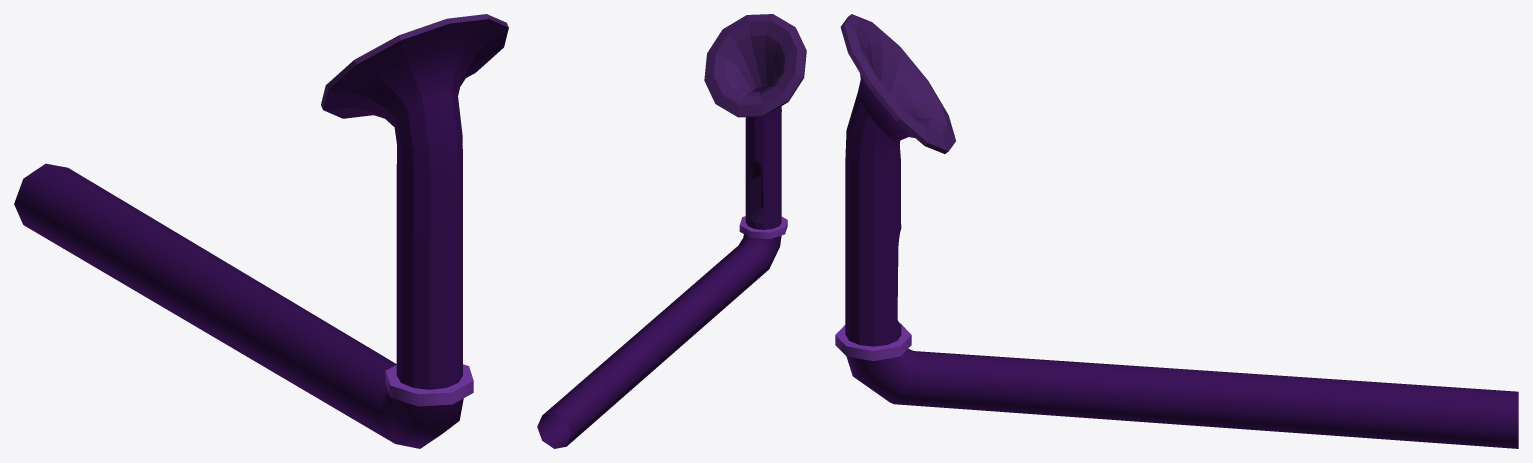
The model's file is ENV_Xylophone_Pipe_07.fbx.
3 views of the same model, side by side, from view 1: azimuth 30°, elevation 25°; view 2: azimuth 150°, elevation 25°; view 3: azimuth 270°, elevation 25° (orthographic). The views are drawn at different scales.
Visible parts, largest first — view 1: ENV_Xylophone_Pipe_07; view 2: ENV_Xylophone_Pipe_07; view 3: ENV_Xylophone_Pipe_07.
Part boxes in pixels (x1,y1,x2,y2): ENV_Xylophone_Pipe_07: (14, 14, 508, 448); ENV_Xylophone_Pipe_07: (537, 14, 806, 448); ENV_Xylophone_Pipe_07: (835, 14, 1518, 448).
Bounding box in the file's own units: 2198 × 6014 × 8792.
